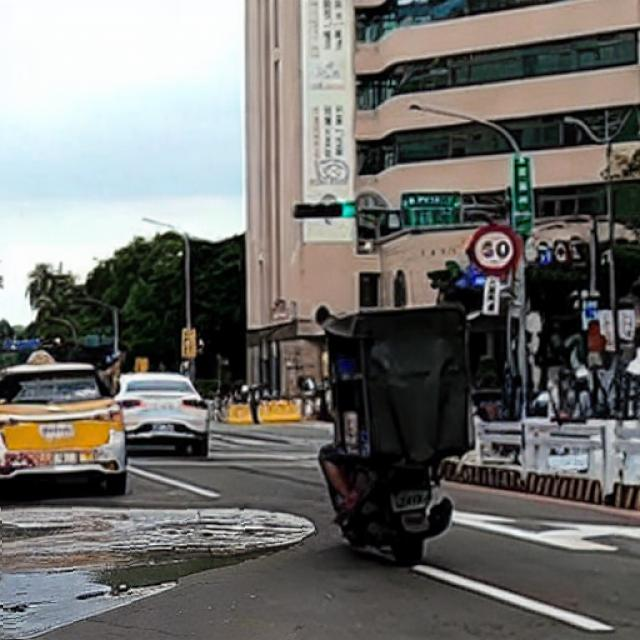puddle: (2, 502, 316, 640)
